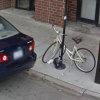Bicycle: (40, 14, 97, 84)
